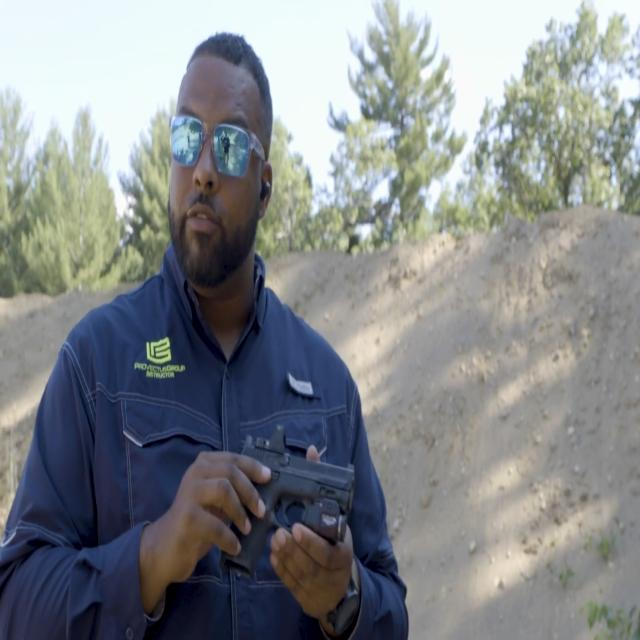Gun_Holder: (214, 418, 360, 609)
Person: (4, 2, 444, 640)
